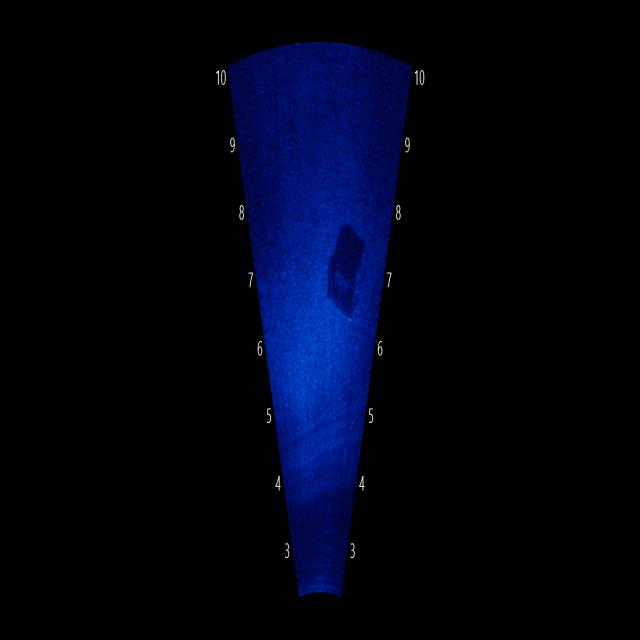square: (317, 207, 372, 337)
